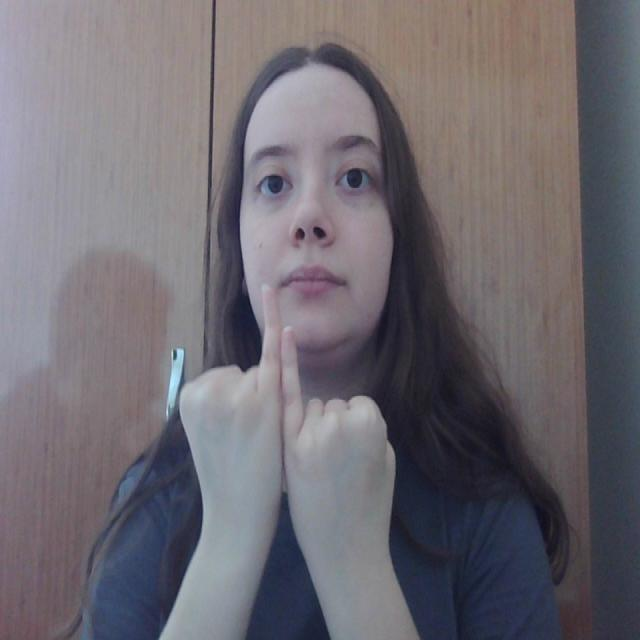Kardes: (175, 280, 402, 562)
